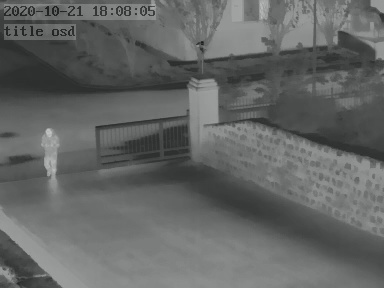person: (41, 125, 61, 177)
